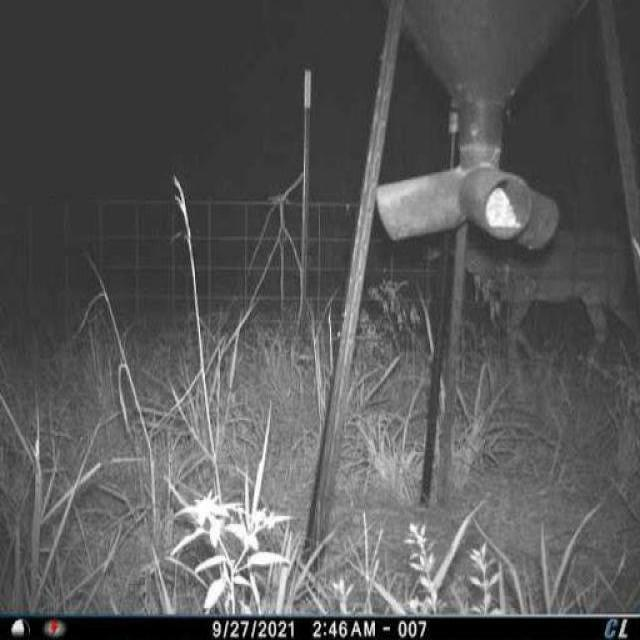deer: (422, 157, 638, 375)
